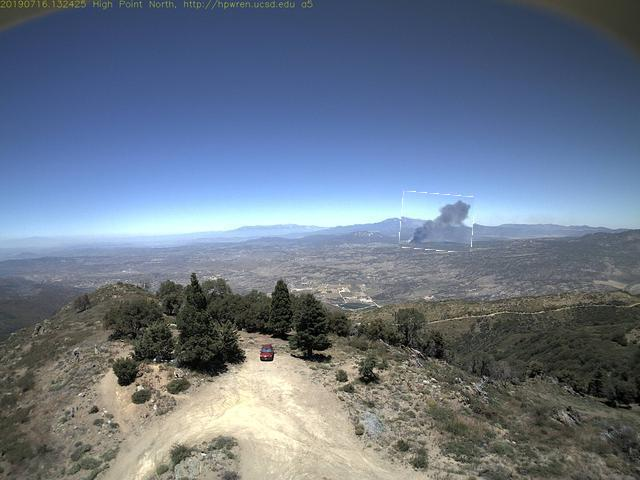smoke: (401, 194, 475, 253)
